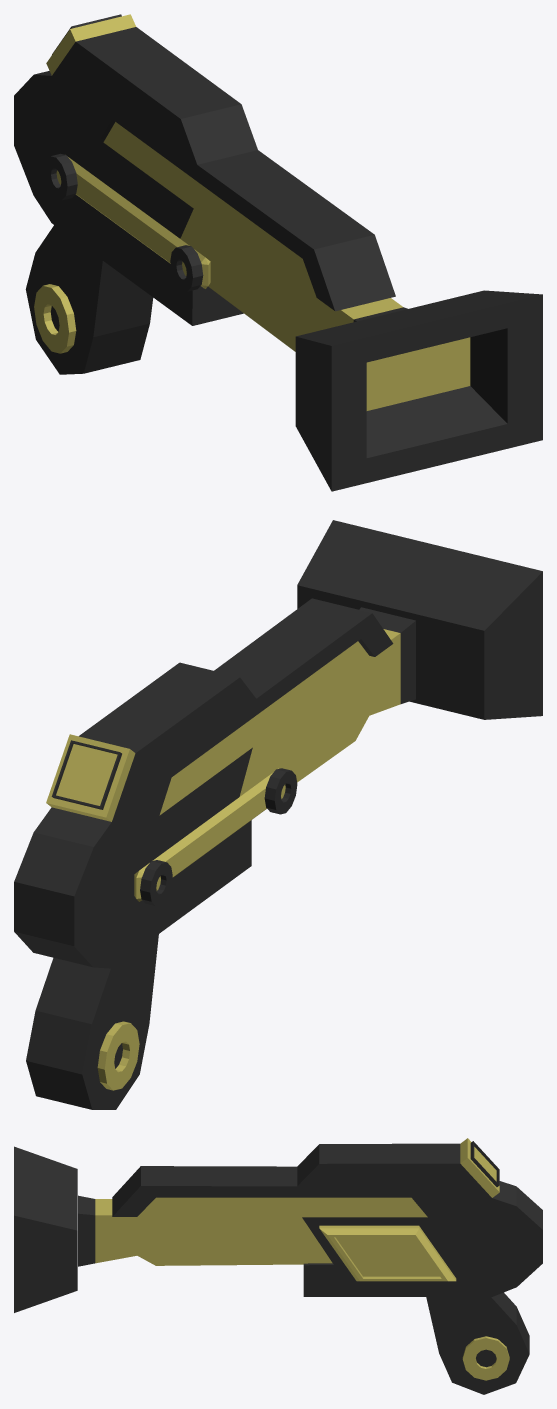
The model's file is gun-2.dae.
3 views of the same model, one above another, from view 1: azimuth 30°, elevation 25°; view 2: azimuth 150°, elevation 25°; view 3: azimuth 270°, elevation 25° (orthographic). The views are drawn at different scales.
Visible parts, largest first — view 1: Cube_003; view 2: Cube_003; view 3: Cube_003.
Part boxes in pixels (x1=…): Cube_003: x1=14, y1=14, x2=542, y2=491; Cube_003: x1=14, y1=520, x2=542, y2=1109; Cube_003: x1=14, y1=1138, x2=542, y2=1394.
Size of the model in its own units: 0.2749 by 0.8893 by 0.4412.
